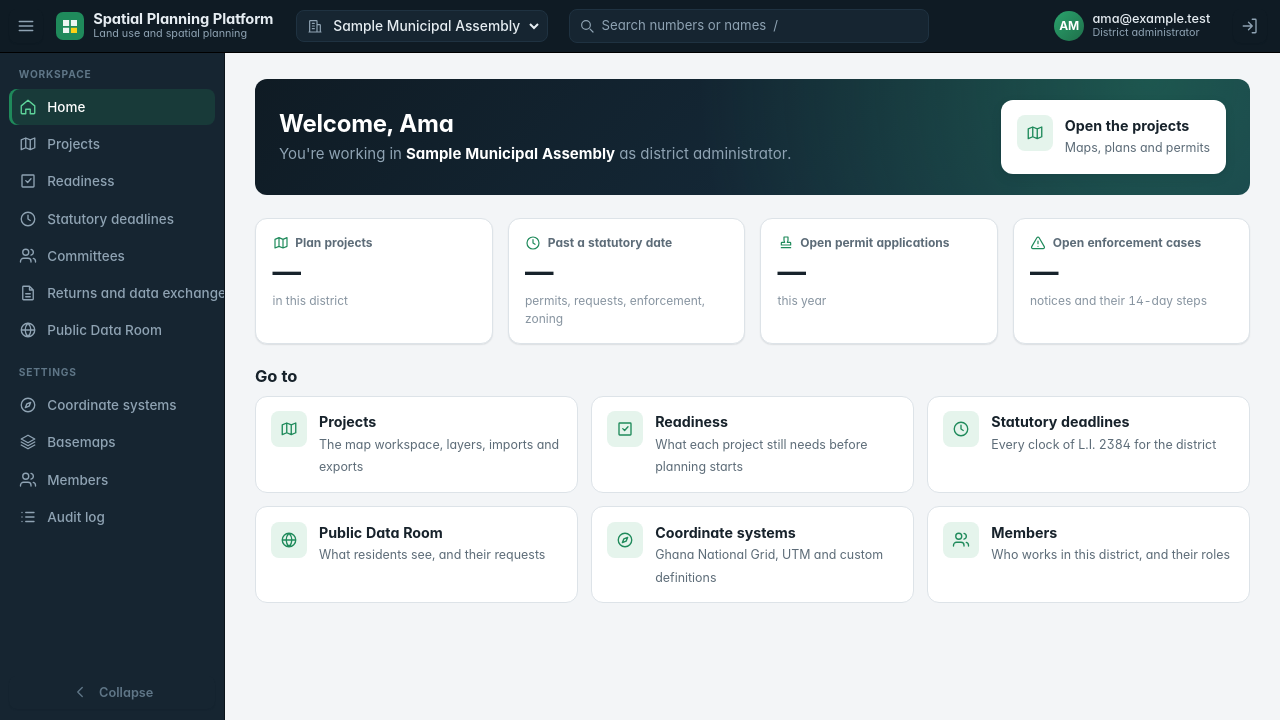
navigation follows the role in the active district › switching to a district where the user is a viewer hides admin pages
The image size is (1280, 720).
Expected: the link "Members" is shown, [19,471,108,489]
Select "Other District Assembly" in the dropdown named "District". click: [436, 26]
box: [329,11,542,41]
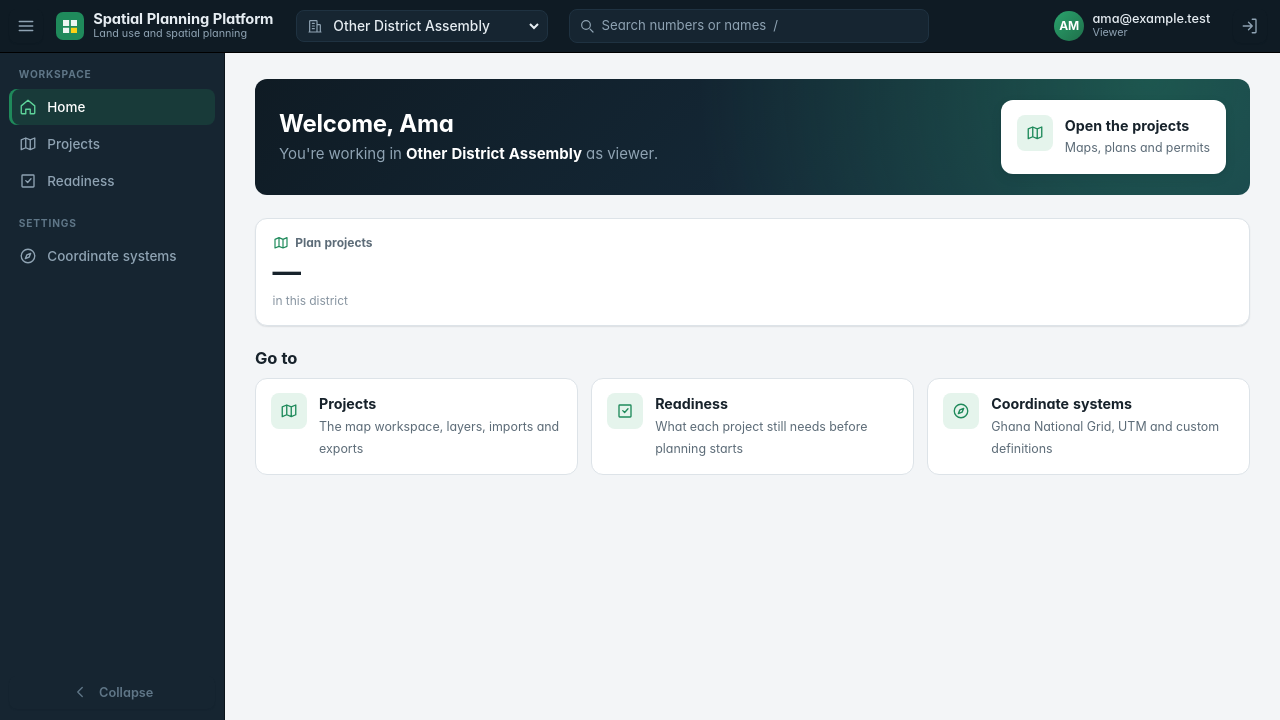
Result: the link "Members" is gone
